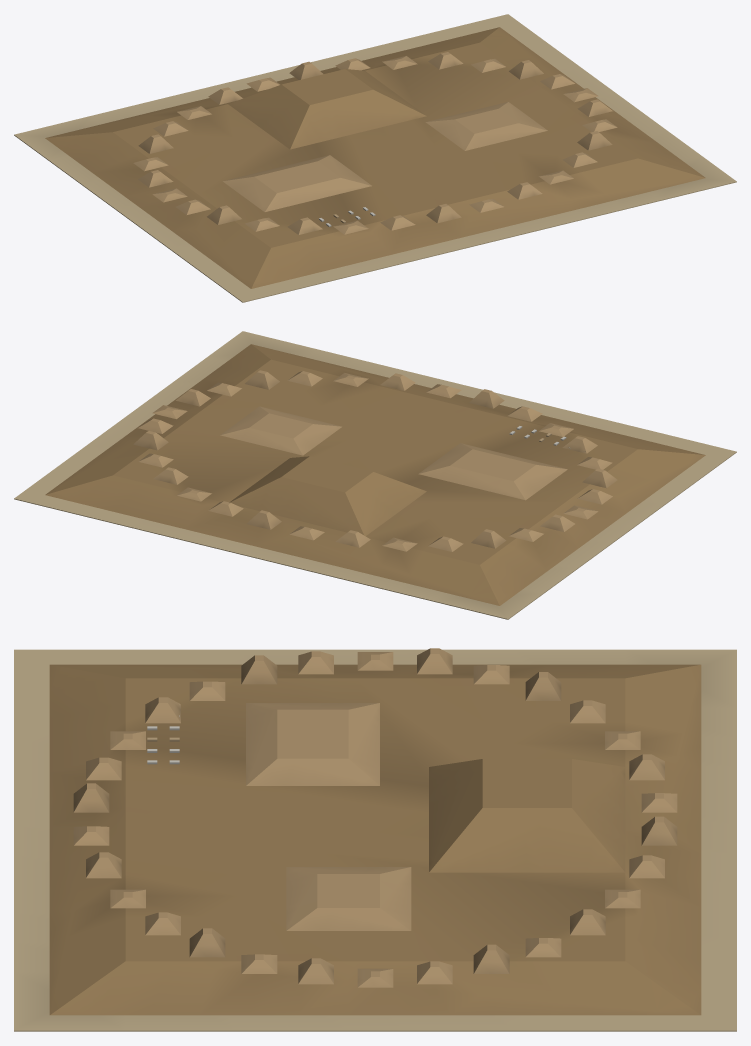
File: afrasiyab-citadel-ruin.glb
The picture shows the model from 3 angles, top to bottom: view 1: azimuth 30°, elevation 25°; view 2: azimuth 150°, elevation 25°; view 3: azimuth 270°, elevation 25°; orthographic projection. The views are drawn at different scales.
Visible parts, largest first — view 1: p0_ruin mound; view 2: p0_ruin mound; view 3: p0_ruin mound.
Part boxes in pixels (box(x1,y1,x2,y2)): p0_ruin mound: box(14, 14, 736, 302); p0_ruin mound: box(14, 331, 736, 619); p0_ruin mound: box(14, 648, 736, 1031).
Size of the model in its own units: 202 by 14.3 by 162.
